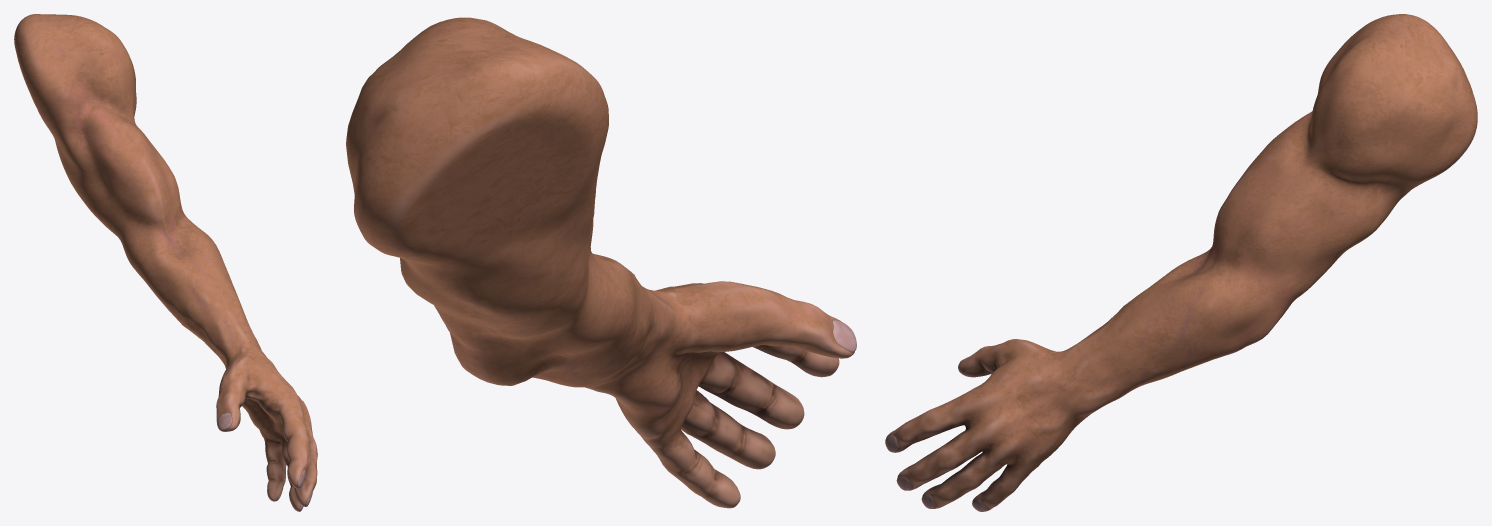
Rendered from hand_and_arm_-_zbrush_sculpt.glb.
The picture shows the model from 3 angles, left to right: view 1: azimuth 30°, elevation 25°; view 2: azimuth 150°, elevation 25°; view 3: azimuth 270°, elevation 25°; orthographic projection. The views are drawn at different scales.
Parts seen in each view (by area): view 1: Hand; view 2: Hand; view 3: Hand.
Part boxes in pixels (<box>): Hand: <box>14,14,317,511</box>; Hand: <box>346,17,856,508</box>; Hand: <box>885,14,1477,511</box>.
Bounding box in the file's own units: 0.4876 × 1.35 × 1.59.
1 material, 1 textured.
